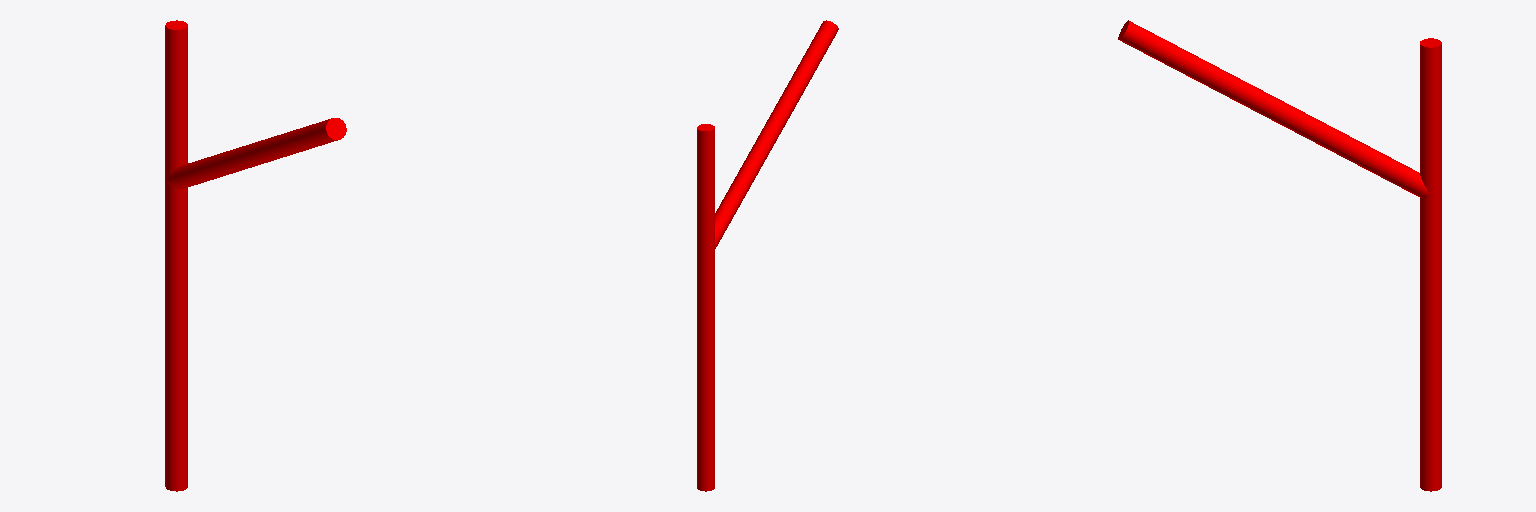
robot.urdf — tree.urdf:
<?xml version="1.0" ?>
<robot name="tree.urdf">
  <link name="baseLink">
    <inertial>
      <origin rpy="0 0 0" xyz="0 0 0"/>
       <mass value=".1"/>
       <inertia ixx="1" ixy="0" ixz="0" iyy="1" iyz="0" izz="1"/>
    </inertial>
    <contact>
      <lateral_friction value="1.0"/>
      <inertia_scaling value="3.0"/>
    </contact>
    <visual>
      <origin rpy="0 0 0" xyz="0 0 0"/>
      <geometry>
        <mesh filename="13.stl" scale="1 1 1" />
      </geometry>
      <material name="red">
        <color rgba="1 0 0 1"/>
      </material>
    </visual>
    <collision>
      <origin rpy="0 0 0" xyz="0 0 0"/>
      <geometry>
        <mesh filename="13_convex.obj" scale="1 1 1" />
      </geometry>
    </collision>
  </link>
</robot>

--- Facts derived from the render (not from the file) ---
3 views of the same robot in one strip: view 1: azimuth 30°, elevation 25°; view 2: azimuth 150°, elevation 25°; view 3: azimuth 270°, elevation 25° (orthographic).
Model tree.urdf with 1 links and 0 joints (none), rooted at baseLink, posed every joint at zero.
Visible links, largest first — view 1: baseLink; view 2: baseLink; view 3: baseLink.
Link boxes in pixels (x1,y1,x2,y2): baseLink: (165, 20, 346, 491); baseLink: (697, 20, 838, 491); baseLink: (1118, 20, 1441, 491).
Size in the robot's own frame: 0.0112 by 0.1652 by 0.262 metres.
1 mesh visuals loaded from 1 distinct referenced files (1 binary STL).